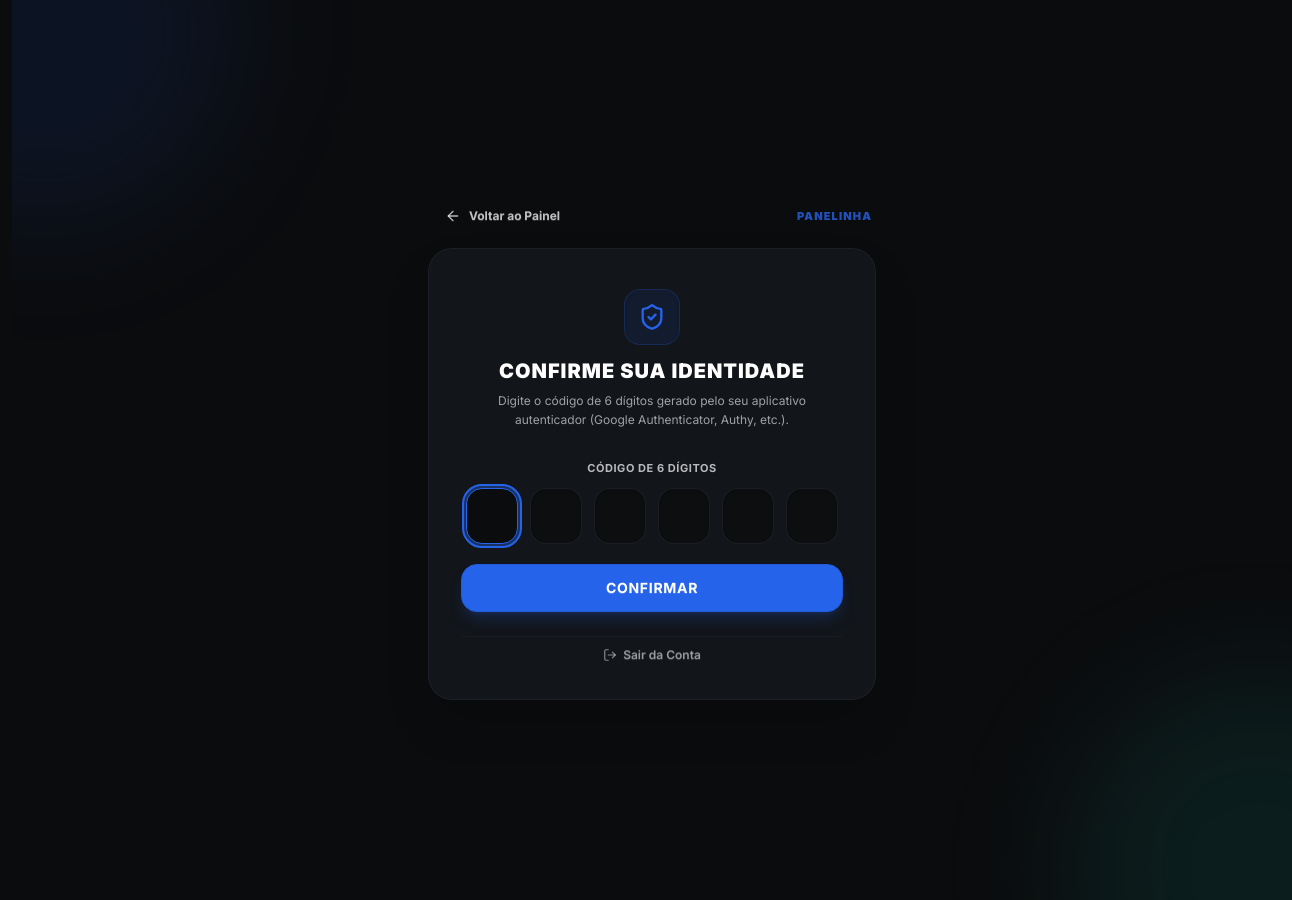
it: MfaChallengePage › verifies a valid challenge code, retries the session and returns to route
Type "654321" into the field labelled "Código de 6 dígitos" at (492, 516), box x1=466 y1=488 x2=518 y2=544
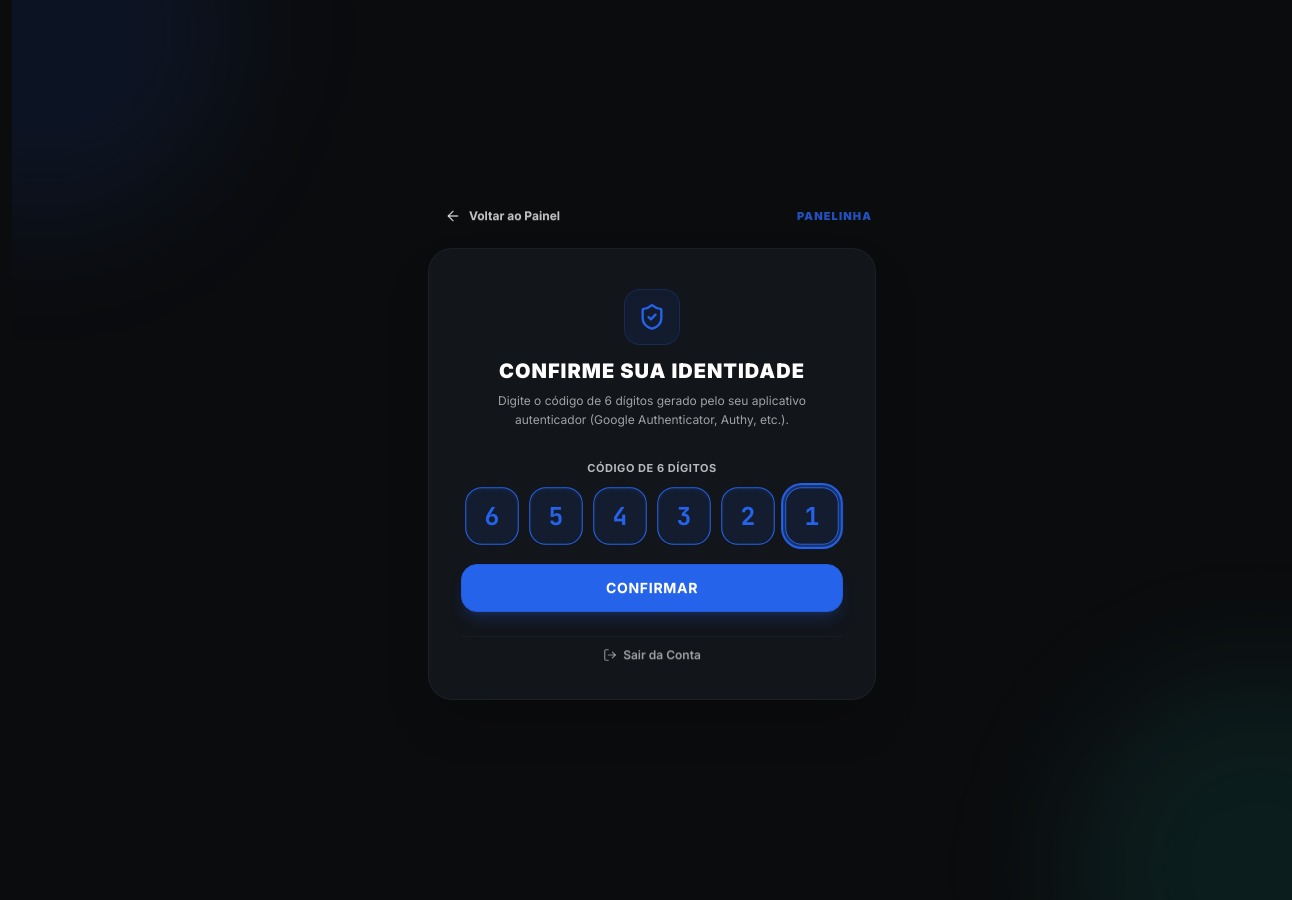
Click the button "Confirmar" at (652, 588), box x1=461 y1=564 x2=843 y2=612
(page scrolled)
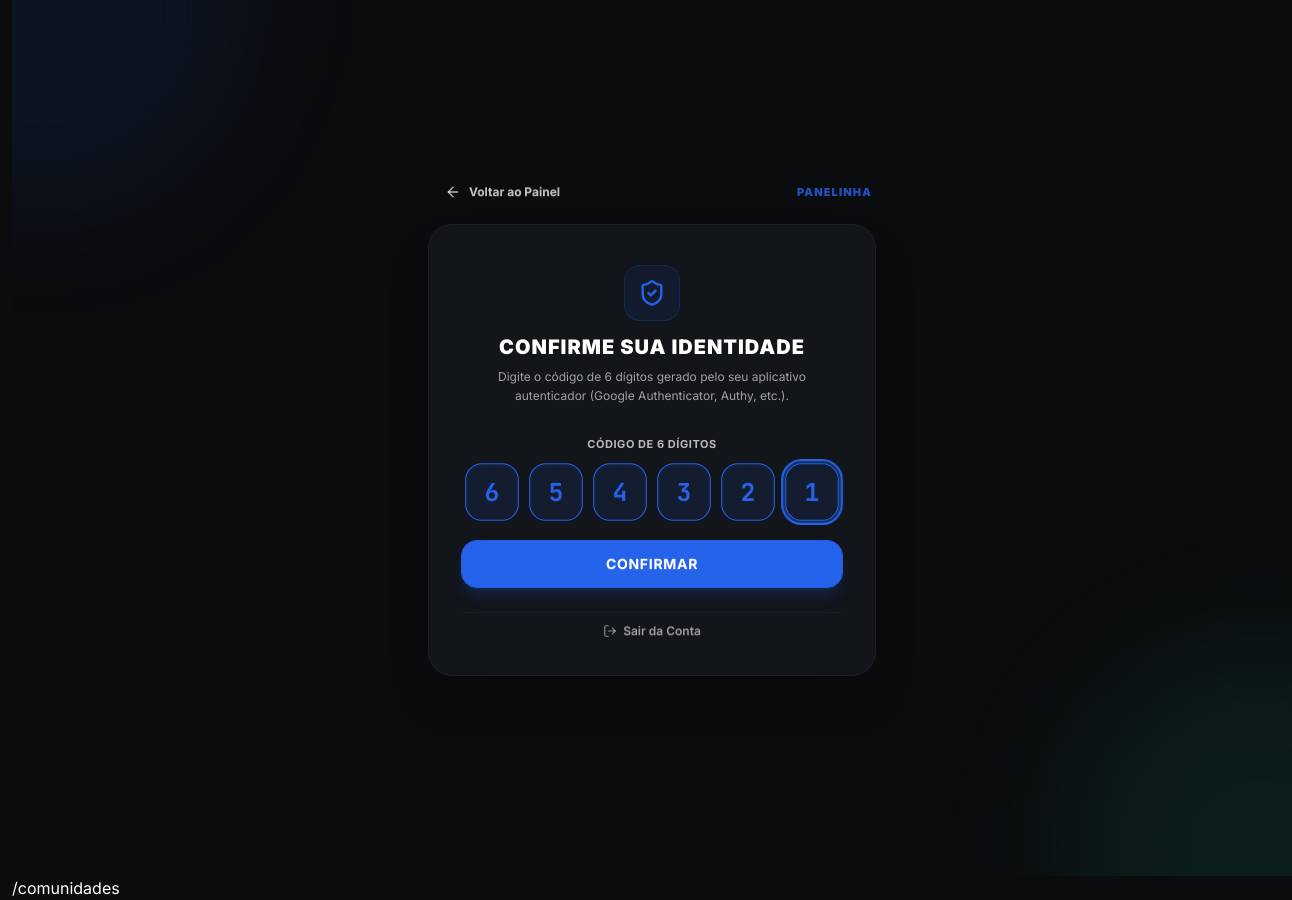
Now the text with test id "location" reads "/comunidades", box x1=12 y1=878 x2=120 y2=898
